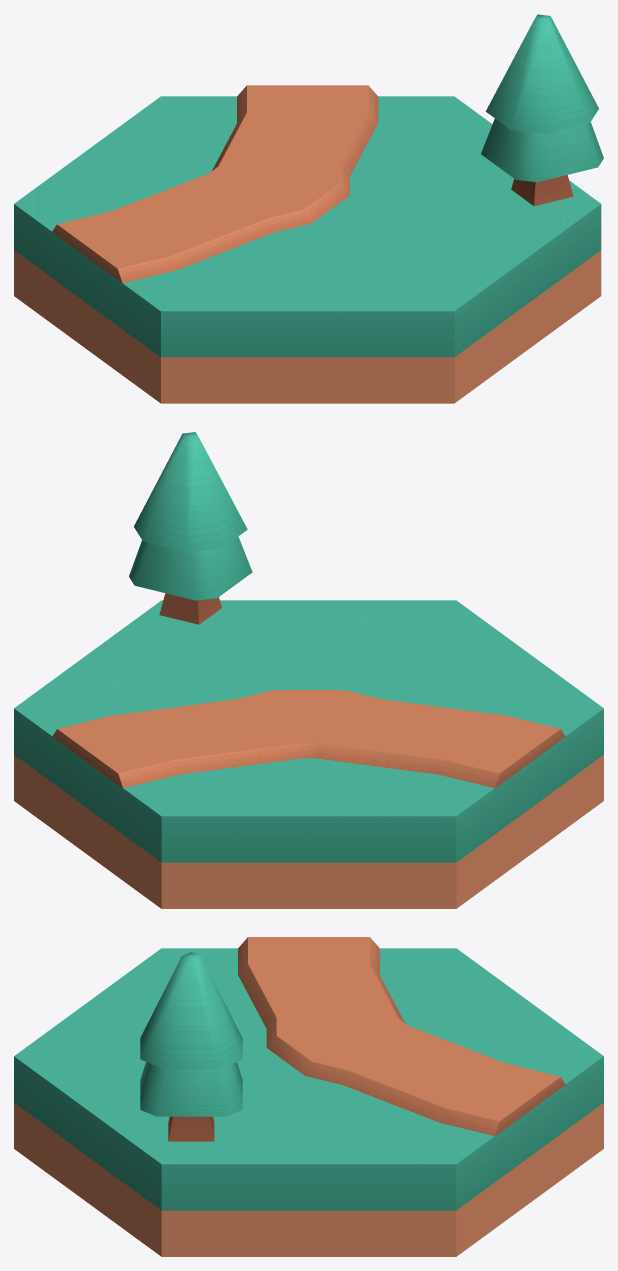
Rendered from grass-path-corner-tree.glb.
3 renders of one model, top to bottom at view 1: azimuth 30°, elevation 25°; view 2: azimuth 150°, elevation 25°; view 3: azimuth 270°, elevation 25°, orthographic.
Visible parts, largest first — view 1: grass, path-corner, unit-tree; view 2: grass, path-corner, unit-tree; view 3: grass, path-corner, unit-tree.
Boxes of the visible parts, x1,y1,x2,y2 form: grass: (14,96,601,403); path-corner: (52,85,378,283); unit-tree: (481,14,603,206); grass: (14,600,603,908); path-corner: (52,690,565,788); unit-tree: (129,432,252,624); grass: (14,948,603,1256); path-corner: (238,937,565,1136); unit-tree: (140,952,242,1141).
Bounding box in the file's own units: 1 × 0.603 × 1.15.
1 material, 1 textured.
